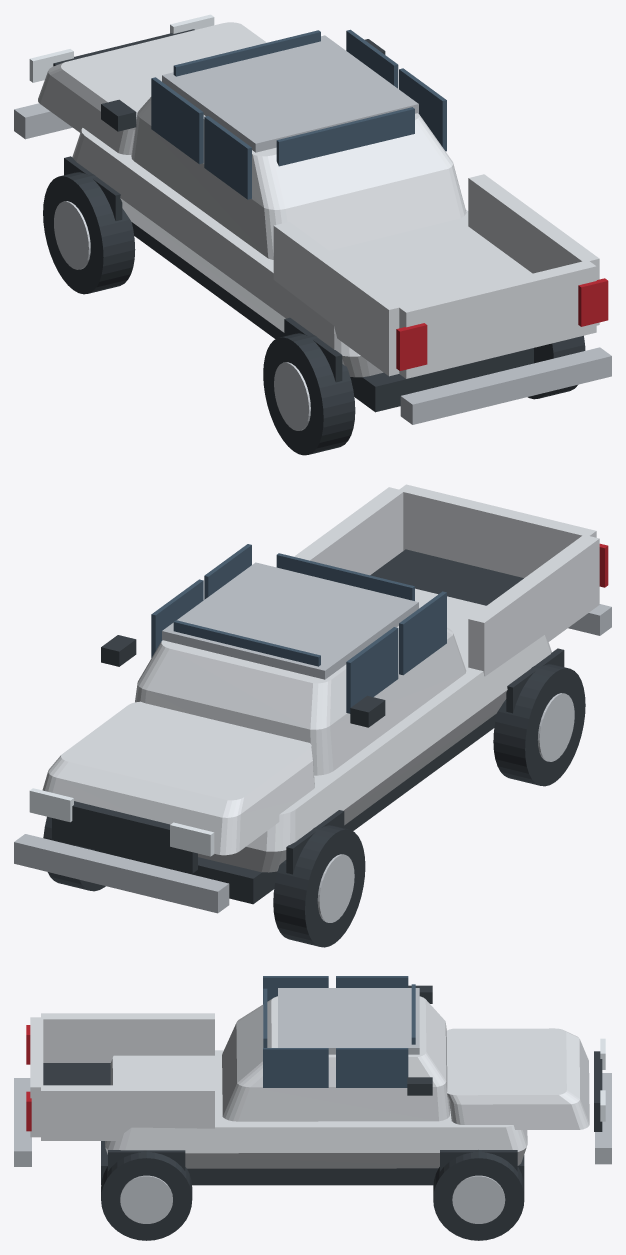
The model's file is mitsubishi_l200_2024.glb.
3 renders of one model, top to bottom at view 1: azimuth 30°, elevation 25°; view 2: azimuth 150°, elevation 25°; view 3: azimuth 270°, elevation 25°, orthographic. The views are drawn at different scales.
Parts seen in each view (by area): view 1: cabin, body_shell, roof, tailgate, hood, bed_side_-1, rear_bumper, tire_-1_1.56, tire_-1_-1.56, bed_side_1, chassis, rear_window (+15 smaller); view 2: hood, cabin, body_shell, roof, tailgate, bed_side_-1, front_bumper, tire_-1_-1.56, tire_-1_1.56, grille, bed_side_1, bed_floor (+17 smaller); view 3: body_shell, hood, cabin, bed_side_1, roof, bed_side_-1, chassis, tire_1_-1.56, tire_1_1.56, front_window_1, rear_window_1, rim_1_-1.56 (+11 smaller).
Boxes of the visible parts, x1,y1,x2,y2 form: cabin: (131, 97, 466, 259); body_shell: (72, 128, 532, 377); roof: (162, 35, 418, 152); tailgate: (398, 260, 596, 378); hood: (38, 22, 266, 154); bed_side_-1: (273, 222, 402, 376); rear_bumper: (400, 347, 611, 424); tire_-1_1.56: (263, 333, 355, 455); tire_-1_-1.56: (43, 172, 135, 294); bed_side_1: (468, 174, 599, 325); chassis: (131, 222, 533, 412); rear_window: (276, 107, 414, 166); hood: (42, 701, 314, 855); cabin: (135, 626, 466, 775); body_shell: (198, 588, 551, 872); roof: (162, 562, 418, 679); tailgate: (398, 484, 596, 577); bed_side_-1: (468, 535, 599, 676); front_bumper: (14, 834, 229, 913); tire_-1_-1.56: (273, 825, 365, 947); tire_-1_1.56: (493, 664, 585, 786); grille: (52, 801, 197, 873); bed_side_1: (294, 487, 403, 575); bed_floor: (370, 549, 523, 605); body_shell: (105, 1050, 527, 1168); hood: (446, 1028, 589, 1129); cabin: (222, 996, 449, 1121); bed_side_1: (41, 1085, 214, 1140); roof: (278, 988, 419, 1054); bed_side_-1: (41, 1013, 214, 1062); chassis: (101, 1141, 524, 1185); tire_1_-1.56: (433, 1150, 524, 1240); tire_1_1.56: (101, 1150, 192, 1240); front_window_1: (336, 1048, 408, 1087); rear_window_1: (263, 1048, 328, 1087); rim_1_-1.56: (452, 1175, 505, 1223).
Size of the model in its own units: 2.2 by 1.89 by 5.64.
